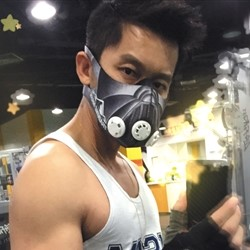mask: (88, 67, 166, 149)
